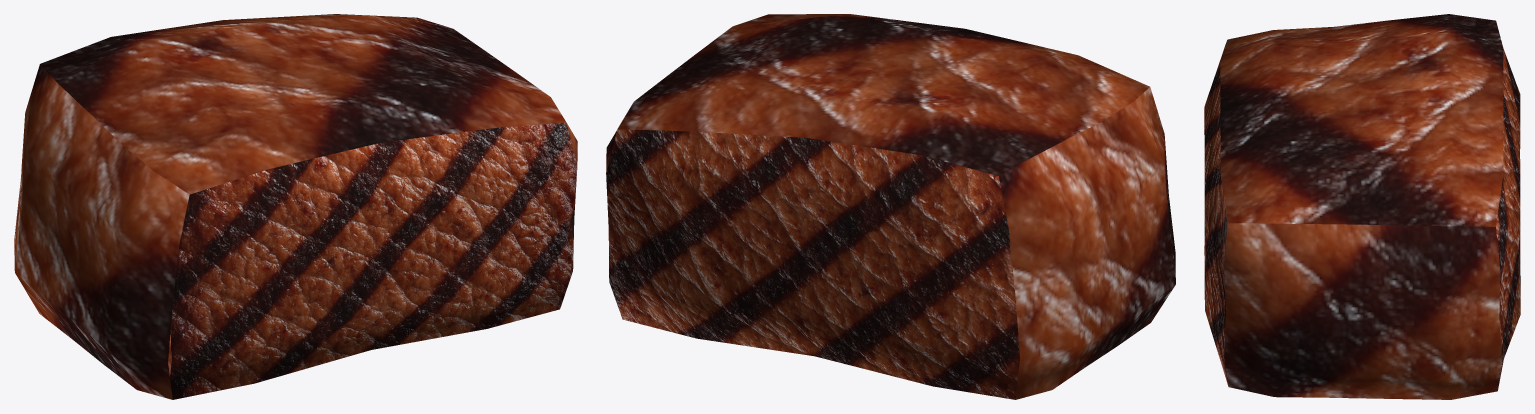
The model's file is meat.fbx.
The picture shows the model from 3 angles, left to right: view 1: azimuth 30°, elevation 25°; view 2: azimuth 150°, elevation 25°; view 3: azimuth 270°, elevation 25°; orthographic projection. The views are drawn at different scales.
Visible parts, largest first — view 1: Cube; view 2: Cube; view 3: Cube.
Part boxes in pixels (x1=…): Cube: x1=14, y1=14, x2=577, y2=399; Cube: x1=606, y1=14, x2=1175, y2=399; Cube: x1=1204, y1=14, x2=1520, y2=399.
Size of the model in its own units: 25.99 by 14.15 by 16.94.
1 material, 1 textured.
